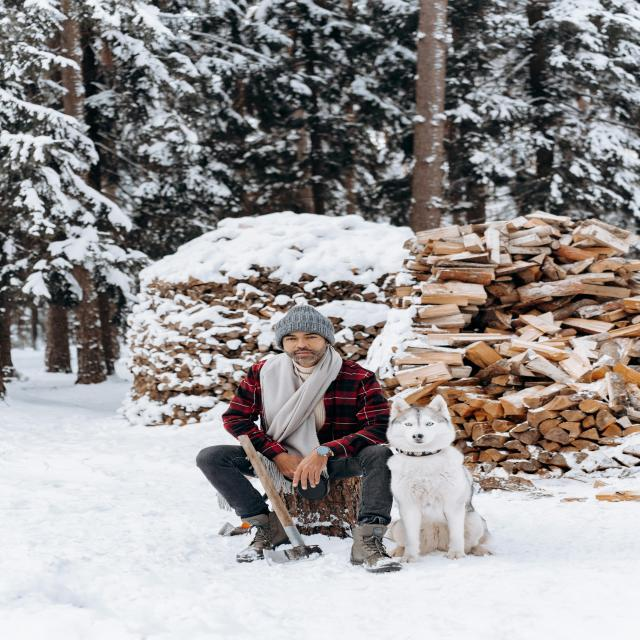Axe: (238, 435, 321, 564)
